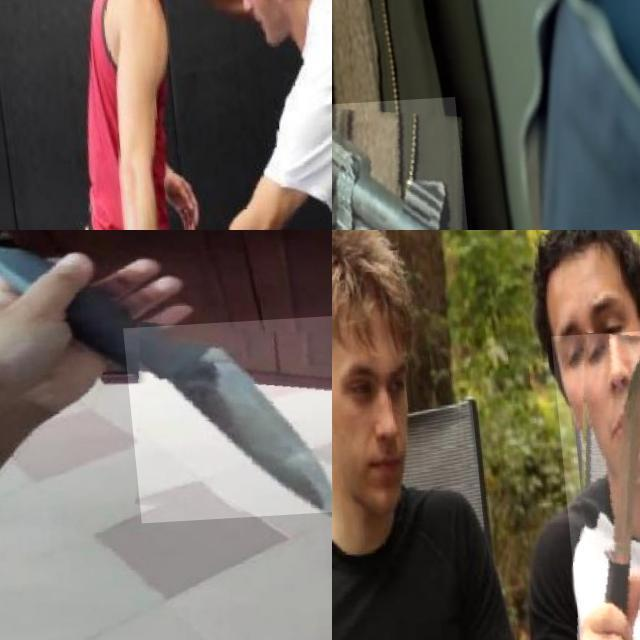-: (118, 320, 332, 525), (548, 336, 640, 640)
gun-knife-thesis - v11 Yolov5 augmented: (332, 102, 474, 230)
